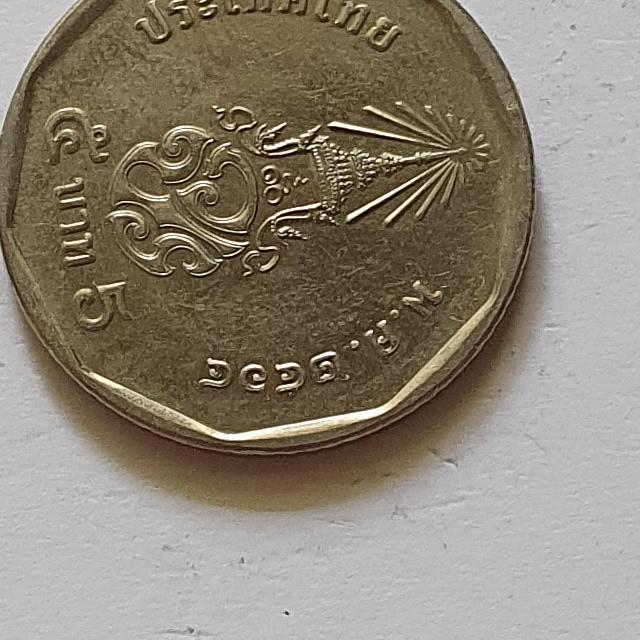5 Bath: (1, 1, 541, 463)
